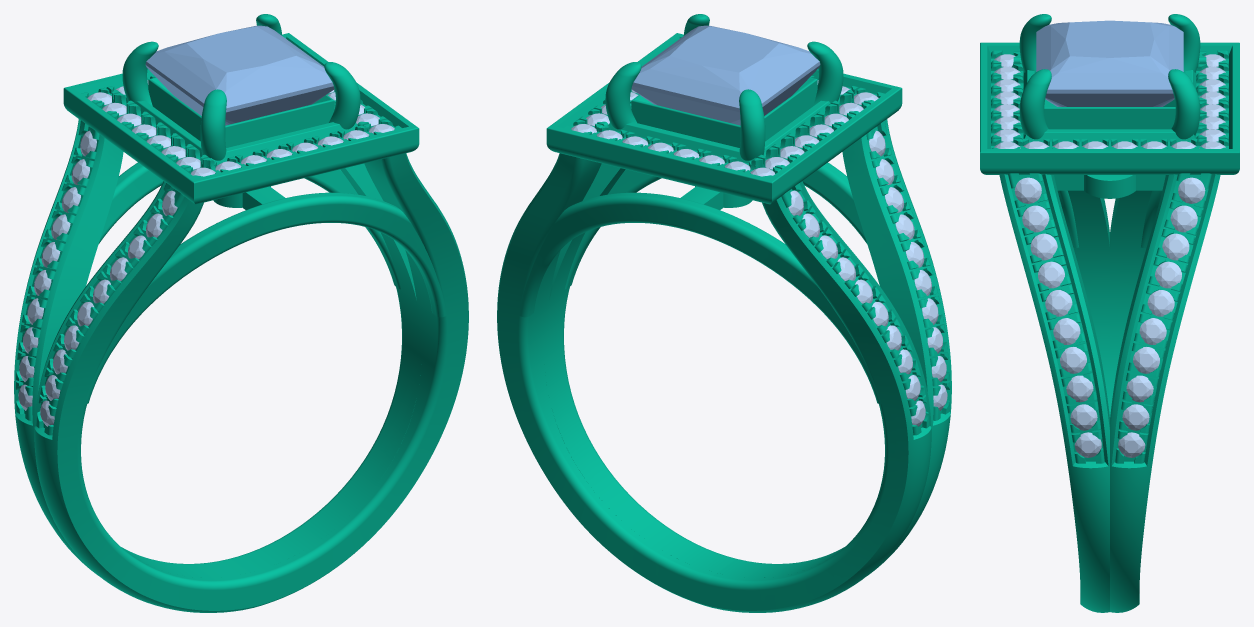
3 views of the same model, side by side, from view 1: azimuth 30°, elevation 25°; view 2: azimuth 150°, elevation 25°; view 3: azimuth 270°, elevation 25° (orthographic).
Visible parts, largest first — view 1: JTC 11310(front).3dm, Diamond_Princess; view 2: JTC 11310(front).3dm, Diamond_Princess; view 3: JTC 11310(front).3dm, Diamond_Princess, Diamond_Round (×20).
Part boxes in pixels (x1,y1,x2,y2): JTC 11310(front).3dm: (14, 14, 468, 612); Diamond_Princess: (145, 25, 334, 125); JTC 11310(front).3dm: (497, 14, 951, 612); Diamond_Princess: (631, 25, 820, 125); JTC 11310(front).3dm: (980, 14, 1239, 612); Diamond_Princess: (1036, 20, 1183, 106); Diamond_Round (×20): (1014, 177, 1205, 457).
Bounding box in the file's own units: 2.37 × 2.96 × 1.26.
